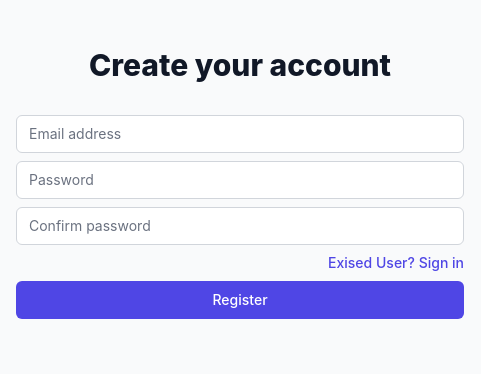
Register Component › shows error on registration failure
The image size is (481, 374).
Type "fail@example.com" into the field with placeholder "Email address".
click(240, 134); type("fail@example.com")  # box [16,115,464,153]
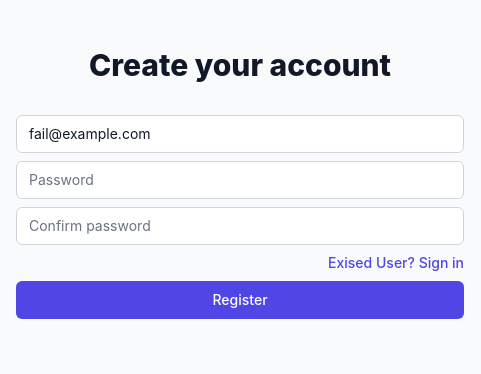
Type "password123" into the password field with placeholder "Password".
click(240, 180); type("password123")  # box [16,161,464,199]
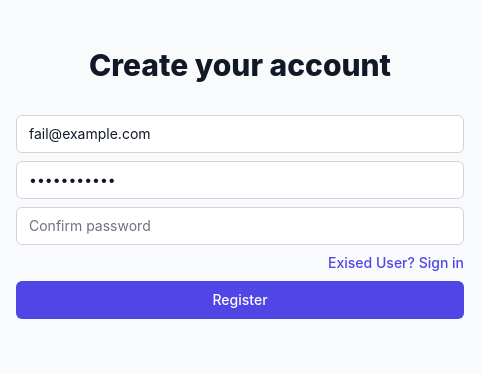
Type "password123" into the password field with placeholder "Confirm password".
click(240, 226); type("password123")  # box [16,207,464,245]
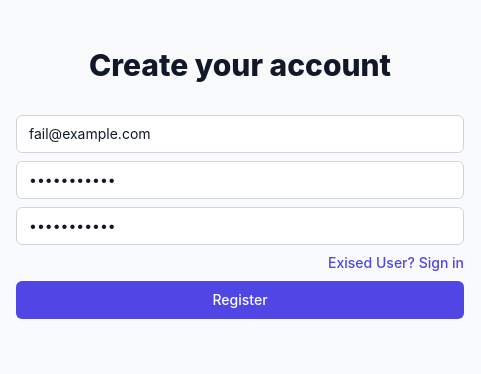
Click the button "Register".
click(240, 300)  # box [16,281,464,319]
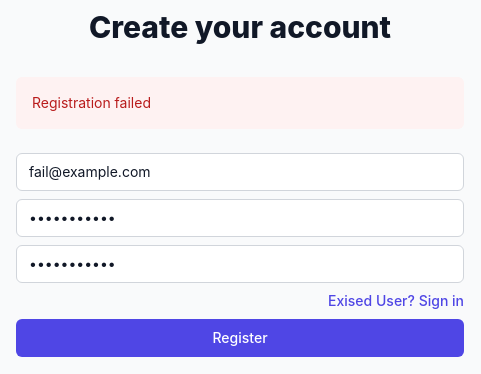
Expected: the text "Registration failed" is shown, [32,94,151,111]
